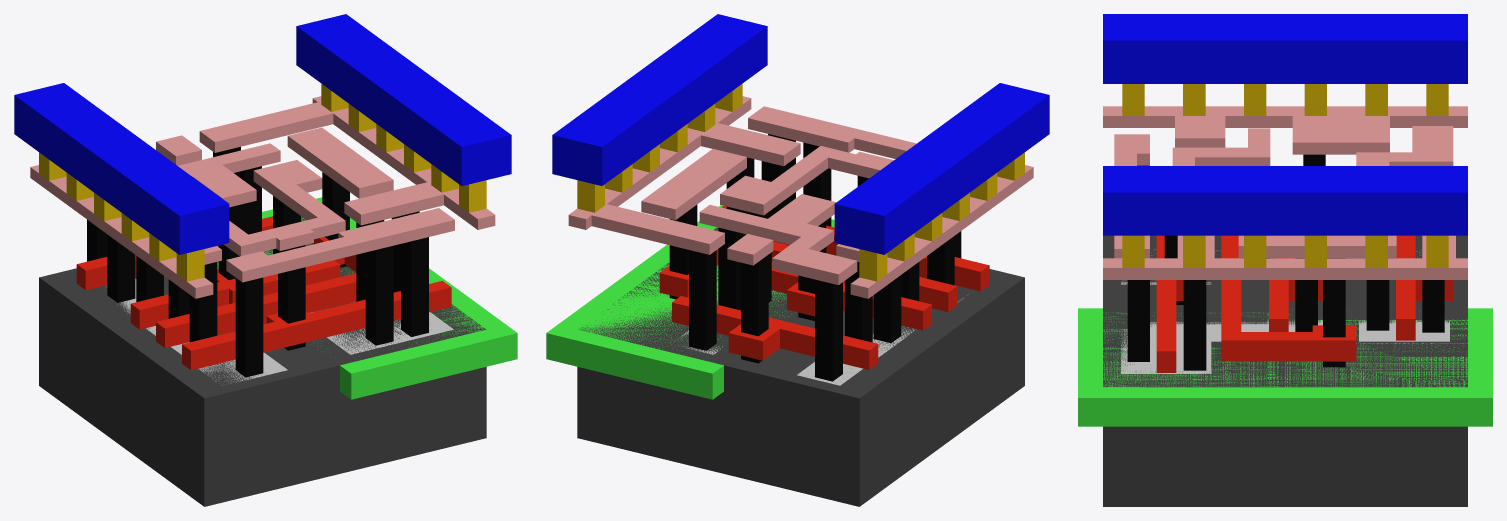
The model's file is sky130_fd_sc_hd__lpflow_inputiso1n_1.obj.
The picture shows the model from 3 angles, left to right: view 1: azimuth 30°, elevation 25°; view 2: azimuth 150°, elevation 25°; view 3: azimuth 270°, elevation 25°; orthographic projection. The views are drawn at different scales.
Visible parts, largest first — view 1: subs, metal1, li, licon, poly, nwell, mcon, tap, diff; view 2: subs, metal1, li, licon, nwell, poly, mcon, diff; view 3: metal1, subs, nwell, li, poly, licon, mcon, tap.
Part boxes in pixels (x1=…): subs: x1=39, y1=216, x2=486, y2=506; metal1: x1=14, y1=14, x2=511, y2=254; li: x1=30, y1=96, x2=495, y2=298; licon: x1=87, y1=146, x2=428, y2=377; poly: x1=76, y1=216, x2=451, y2=370; nwell: x1=217, y1=197, x2=517, y2=399; mcon: x1=39, y1=83, x2=486, y2=281; tap: x1=265, y1=252, x2=453, y2=354; diff: x1=117, y1=278, x2=287, y2=385; subs: x1=577, y1=227, x2=1024, y2=506; metal1: x1=552, y1=14, x2=1049, y2=254; li: x1=568, y1=96, x2=1033, y2=298; licon: x1=669, y1=134, x2=961, y2=381; nwell: x1=546, y1=205, x2=834, y2=399; poly: x1=659, y1=206, x2=989, y2=369; mcon: x1=577, y1=83, x2=1024, y2=281; diff: x1=797, y1=294, x2=968, y2=385; metal1: x1=1103, y1=14, x2=1467, y2=235; subs: x1=1103, y1=235, x2=1467, y2=506; nwell: x1=1078, y1=308, x2=1492, y2=426; li: x1=1103, y1=106, x2=1467, y2=279; poly: x1=1156, y1=235, x2=1453, y2=372; licon: x1=1127, y1=154, x2=1444, y2=370; mcon: x1=1122, y1=84, x2=1448, y2=267; tap: x1=1121, y1=320, x2=1449, y2=373.
Bounding box in the file's own units: 3.2 × 2.74 × 3.14.
